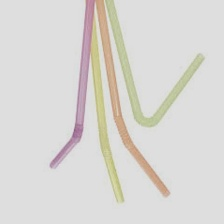drinking_straw: (102, 0, 209, 133), (42, 0, 97, 174)
